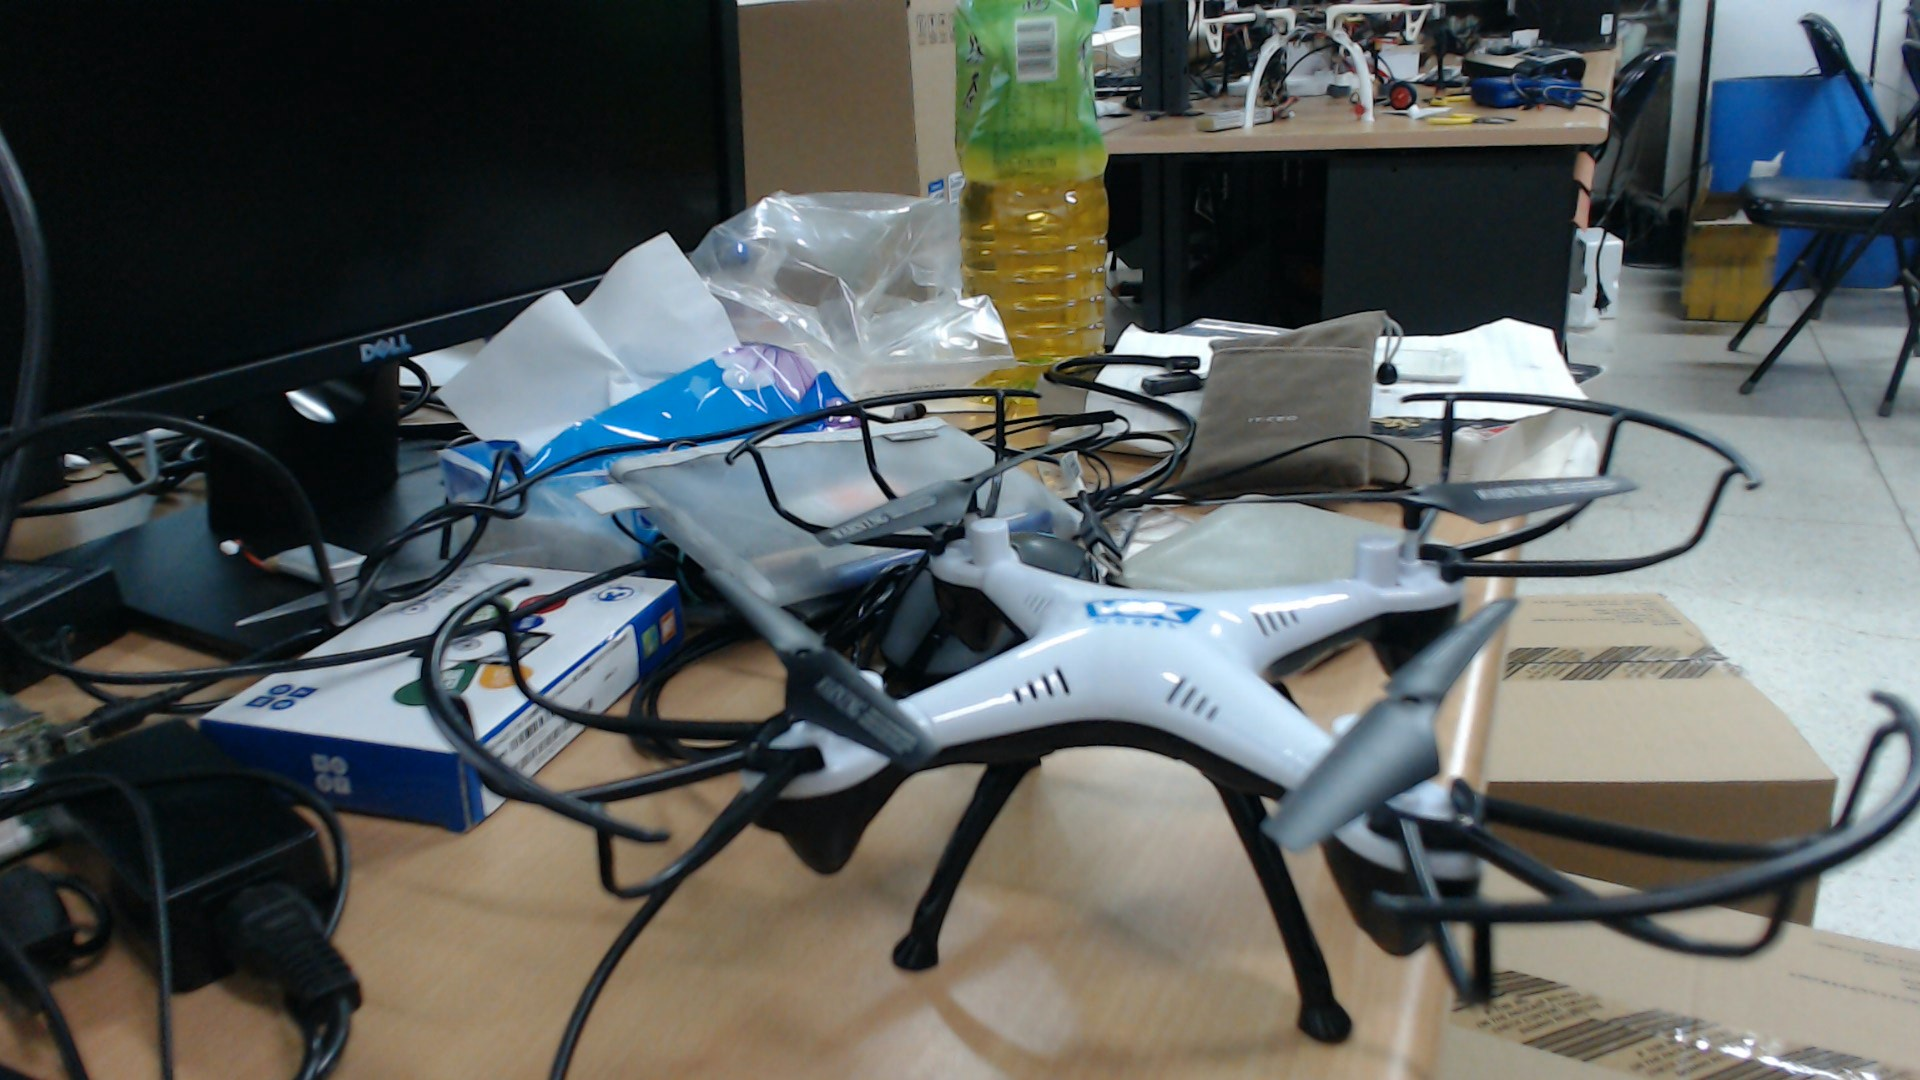drone_rotary_wing: (1253, 599, 1539, 856), (704, 563, 939, 777), (810, 429, 1091, 549), (1189, 469, 1643, 527)
